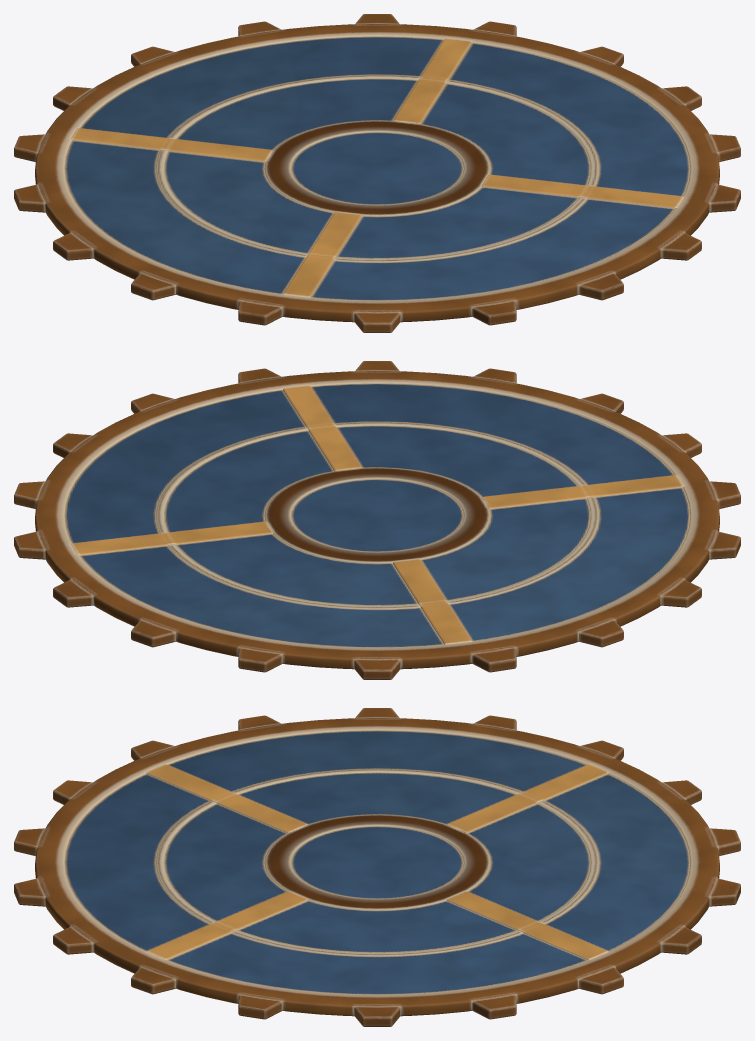
File: GF_OuterGear.glb
3 renders of one model, top to bottom at view 1: azimuth 30°, elevation 25°; view 2: azimuth 150°, elevation 25°; view 3: azimuth 270°, elevation 25°, orthographic.
Parts seen in each view (by area): view 1: GF_OuterGear; view 2: GF_OuterGear; view 3: GF_OuterGear.
Boxes of the visible parts, bbox=[...] form: GF_OuterGear: bbox=[14, 14, 740, 332]; GF_OuterGear: bbox=[14, 361, 740, 679]; GF_OuterGear: bbox=[14, 708, 740, 1026].
Bounding box in the file's own units: 8.1 × 0.135 × 8.03.
3 materials, 3 textured.
